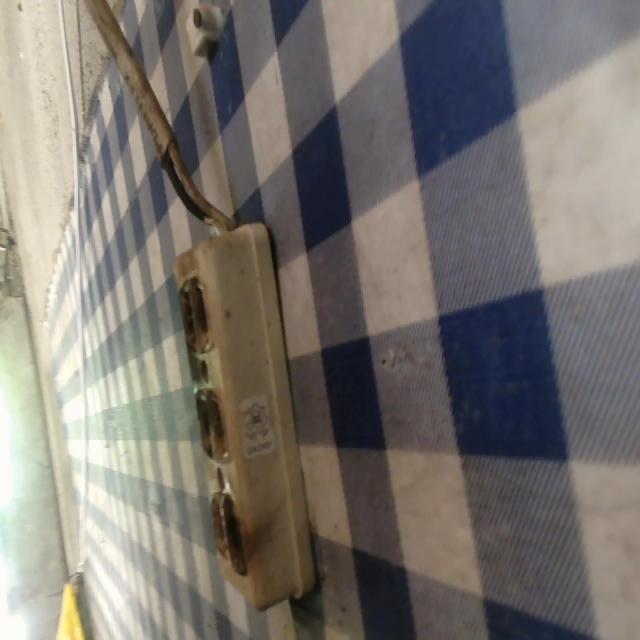-: (176, 271, 214, 352), (208, 488, 244, 568), (190, 385, 231, 455)
